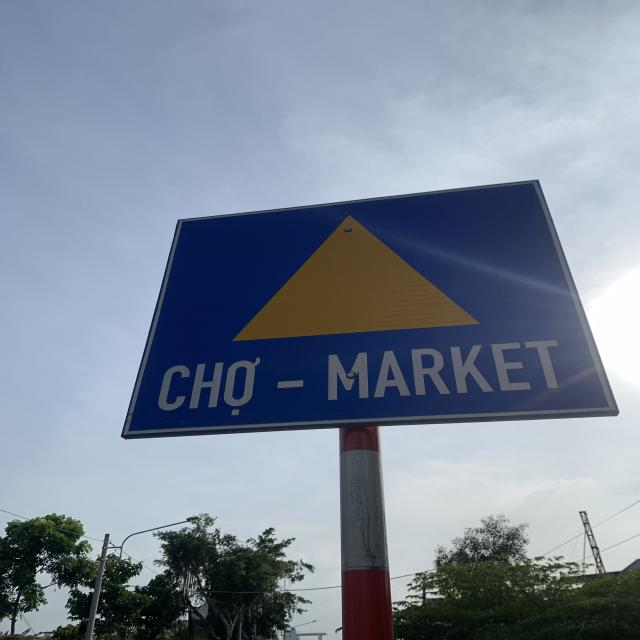Cho_Quay_Xe: (127, 178, 617, 436)
